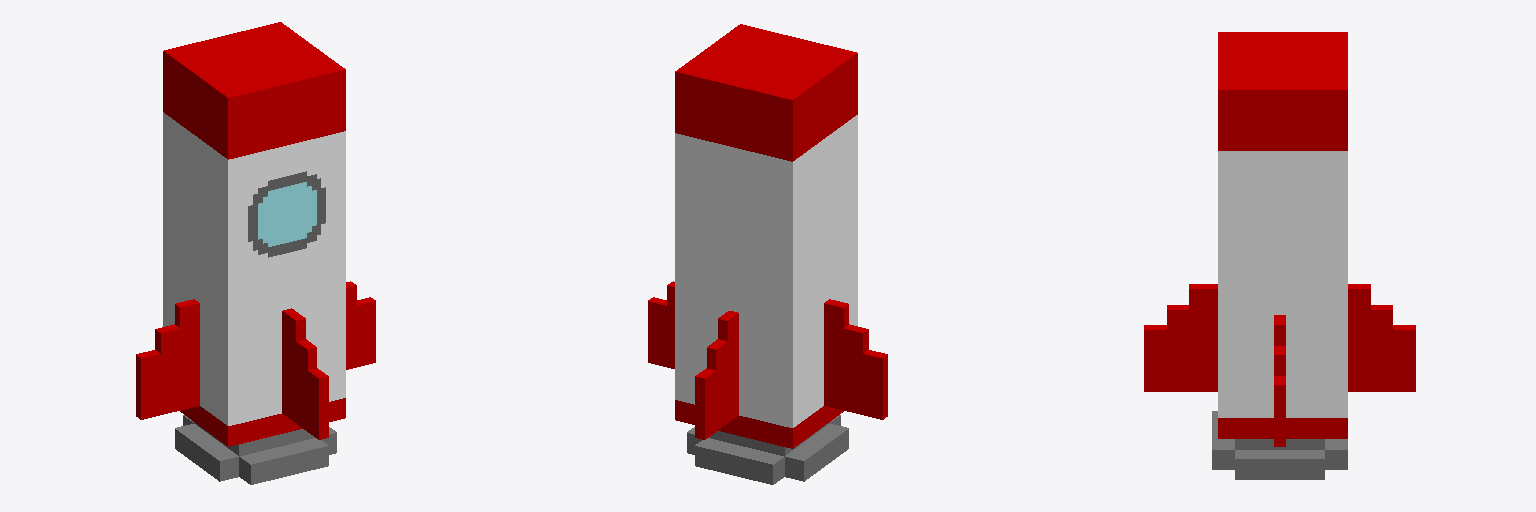
3 renders of one model, left to right at view 1: azimuth 30°, elevation 25°; view 2: azimuth 150°, elevation 25°; view 3: azimuth 270°, elevation 25°, orthographic.
Size of the model in its own units: 48 by 76 by 48.
1 materials, 1 textured.